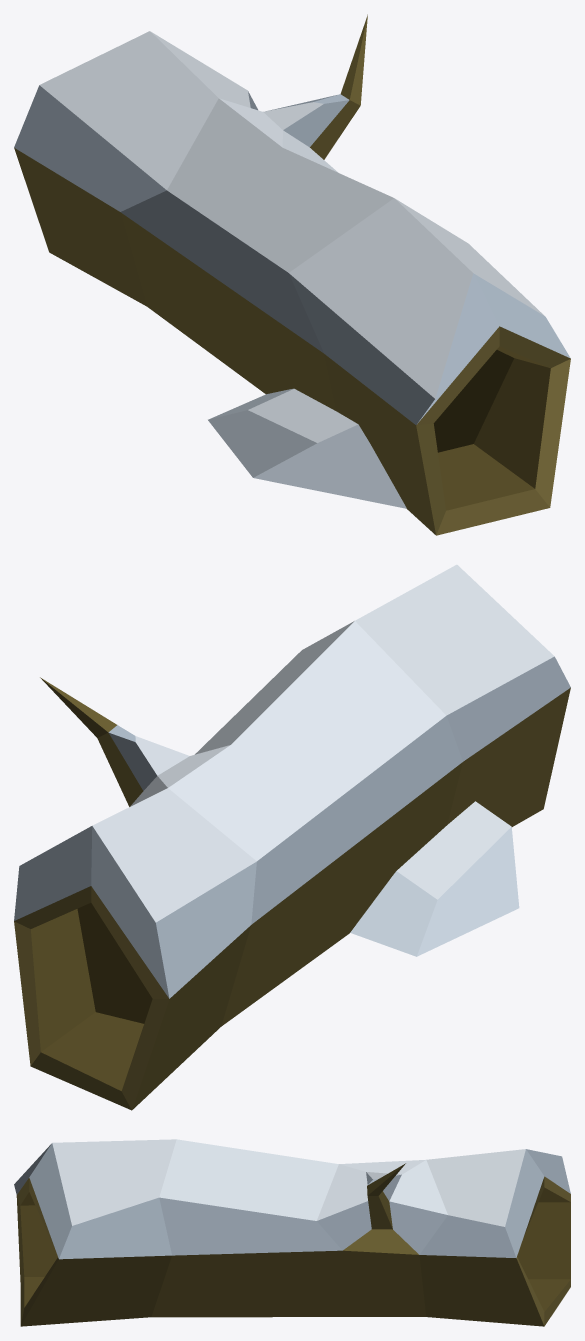
The model's file is FallenLog_Alt1.fbx.
3 renders of one model, top to bottom at view 1: azimuth 30°, elevation 25°; view 2: azimuth 150°, elevation 25°; view 3: azimuth 270°, elevation 25°, orthographic. The views are drawn at different scales.
Parts seen in each view (by area): view 1: FallenLog_Alt1; view 2: FallenLog_Alt1; view 3: FallenLog_Alt1.
Part boxes in pixels (<box>): FallenLog_Alt1: <box>14,14,570,535</box>; FallenLog_Alt1: <box>14,564,570,1110</box>; FallenLog_Alt1: <box>14,1139,570,1326</box>.
Bounding box in the file's own units: 0.3263 × 0.3013 × 0.7821.
